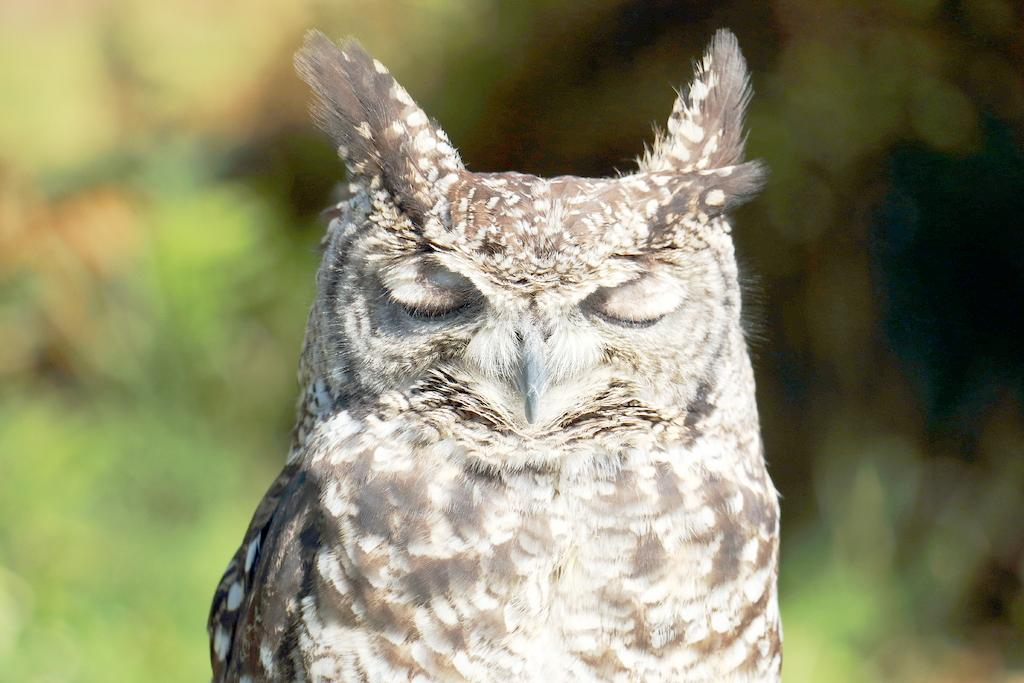Owl: (204, 28, 784, 682)
